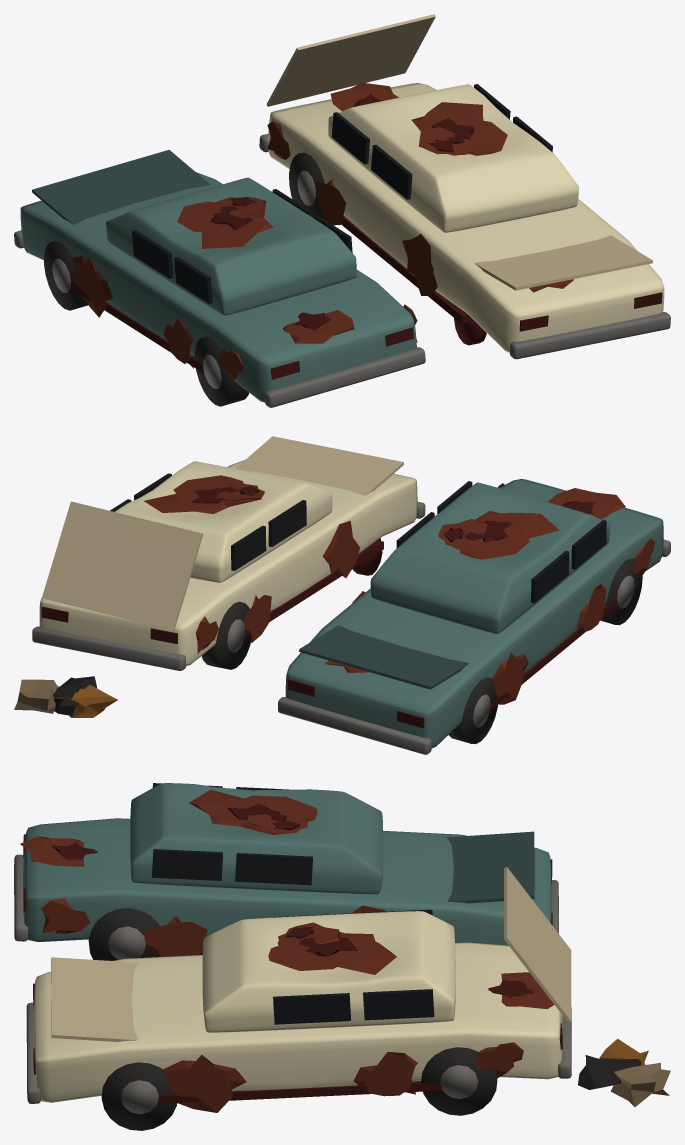
Rendered from garage_cars_a.glb.
3 views of the same model, one above another, from view 1: azimuth 30°, elevation 25°; view 2: azimuth 150°, elevation 25°; view 3: azimuth 270°, elevation 25° (orthographic). The views are drawn at different scales.
Parts seen in each view (by area): view 1: body_low.001, body_low, cabin.001, cabin, boot_lid, bonnet, bonnet.001, bumper_-1, bumper_1.001, rust_0.001, rust_0, tyre_-14_7 (+16 smaller); view 2: body_low, cabin, body_low.001, boot_lid, cabin.001, bonnet.001, bonnet, bumper_1, bumper_-1.001, rust_0, rust_0.001, tyre_-14_-7.001 (+19 smaller); view 3: body_low.001, body_low, cabin.001, cabin, bonnet.001, boot_lid, bonnet, rust_0.001, rust_side_0_1.001, tyre_14_7.001, tyre_-14_7.001, rust_0 (+25 smaller).
Part boxes in pixels (left/top/right/bottom): body_low.001: left=268, top=83, right=664, bottom=352; body_low: left=20, top=172, right=416, bottom=402; cabin.001: left=328, top=84, right=578, bottom=232; cabin: left=106, top=177, right=356, bottom=315; boot_lid: left=266, top=14, right=435, bottom=106; bonnet: left=32, top=150, right=210, bottom=224; bonnet.001: left=474, top=235, right=652, bottom=290; bumper_-1: left=264, top=347, right=425, bottom=407; bumper_1.001: left=509, top=312, right=670, bottom=359; rust_0.001: left=411, top=102, right=507, bottom=155; rust_0: left=177, top=197, right=273, bottom=248; tyre_-14_7: left=194, top=336, right=248, bottom=406; body_low: left=285, top=479, right=663, bottom=748; cabin: left=370, top=482, right=609, bottom=633; body_low.001: left=39, top=460, right=417, bottom=665; boot_lid: left=42, top=501, right=203, bottom=630; cabin.001: left=115, top=461, right=332, bottom=582; bonnet.001: left=235, top=436, right=403, bottom=495; bonnet: left=299, top=625, right=469, bottom=689; bumper_1: left=278, top=697, right=431, bottom=754; bumper_-1.001: left=32, top=626, right=186, bottom=670; rust_0: left=441, top=511, right=559, bottom=559; rust_0.001: left=144, top=475, right=261, bottom=513; tyre_-14_-7.001: left=201, top=601, right=251, bottom=669; body_low.001: left=34, top=942, right=562, bottom=1102; body_low: left=23, top=818, right=551, bottom=945; cabin.001: left=202, top=911, right=455, bottom=1032; cabin: left=130, top=783, right=383, bottom=894; bonnet.001: left=51, top=957, right=138, bottom=1041; boot_lid: left=504, top=867, right=571, bottom=1022; bonnet: left=447, top=831, right=534, bottom=903; rust_0.001: left=268, top=931, right=396, bottom=974; rust_side_0_1.001: left=163, top=1054, right=246, bottom=1112; tyre_14_7.001: left=101, top=1062, right=176, bottom=1130; tyre_-14_7.001: left=421, top=1047, right=497, bottom=1115; rust_0: left=189, top=789, right=317, bottom=834.
Size of the model in its own units: 4.56 by 1.82 by 5.83.
